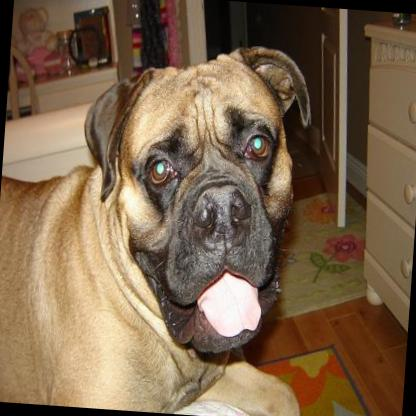bull_mastiff: (0, 27, 325, 416)
